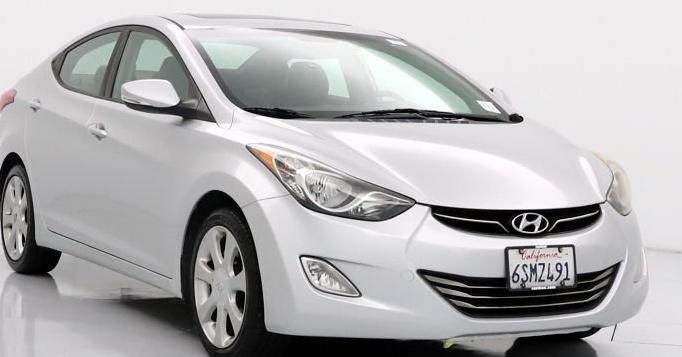Cars: (1, 18, 647, 357)
